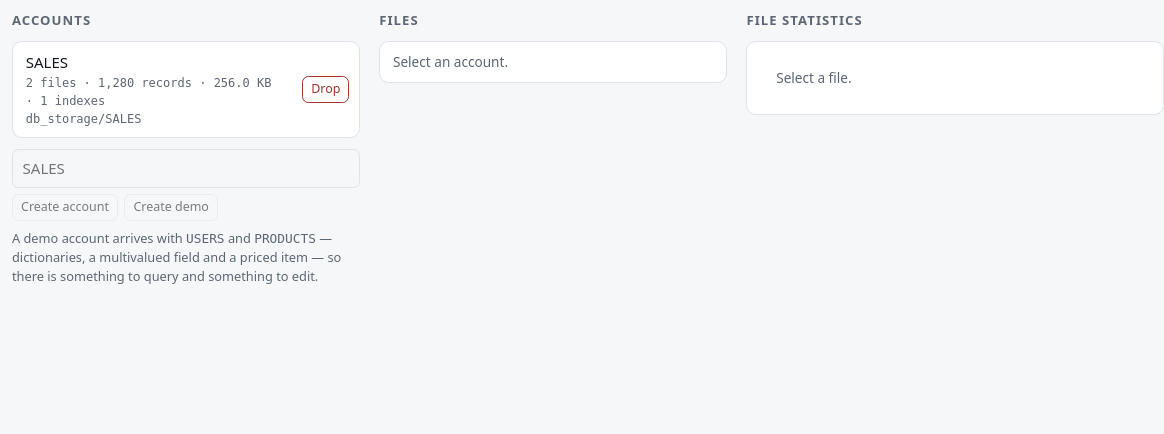
Scenario: the accounts view › marks the file that needs attention in the list, so it can be found
This screenshot has width=1164, height=434.
What coordinates should you click on to do the following:
click the button with class "select"
I would click on:
 (154, 90)
Its box is [13, 42, 296, 137].
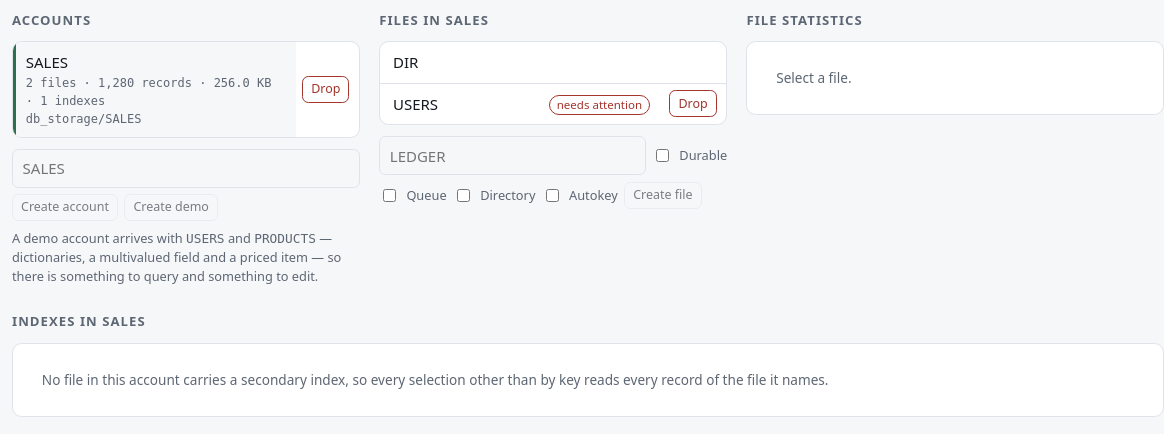
expect the text "needs attention" is shown: met, box [548, 95, 650, 116]
